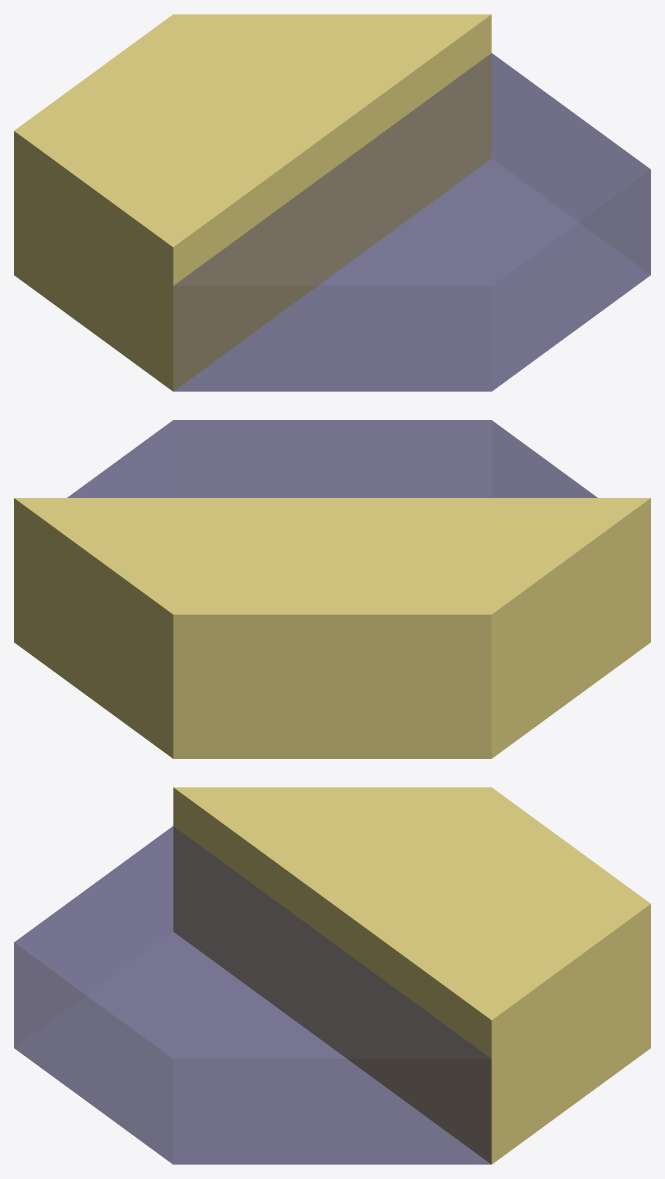
File: HexCell_Beach_Connect_3.glb
3 renders of one model, top to bottom at view 1: azimuth 30°, elevation 25°; view 2: azimuth 150°, elevation 25°; view 3: azimuth 270°, elevation 25°, orthographic.
Parts seen in each view (by area): view 1: HexCell_Beach_Connect_3; view 2: HexCell_Beach_Connect_3; view 3: HexCell_Beach_Connect_3.
Boxes of the visible parts, x1=… form: HexCell_Beach_Connect_3: x1=14, y1=14, x2=650, y2=391; HexCell_Beach_Connect_3: x1=14, y1=420, x2=650, y2=758; HexCell_Beach_Connect_3: x1=14, y1=787, x2=650, y2=1164.
Size of the model in its own units: 1.73 by 0.5 by 2.
